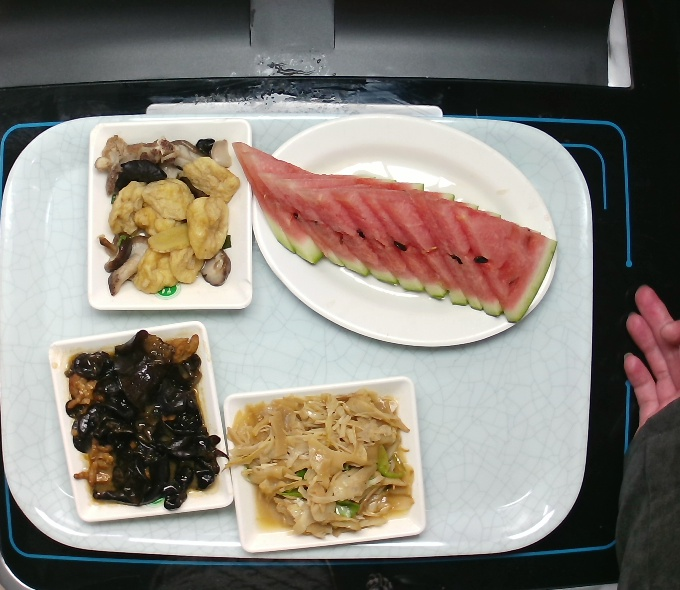wcq-LuSun: (227, 392, 418, 544)
wcq-MuErChaoRou: (69, 344, 215, 508)
wcq-XiGua: (223, 137, 563, 332)
wcq-YouPaoPaiGu: (91, 133, 240, 301)
